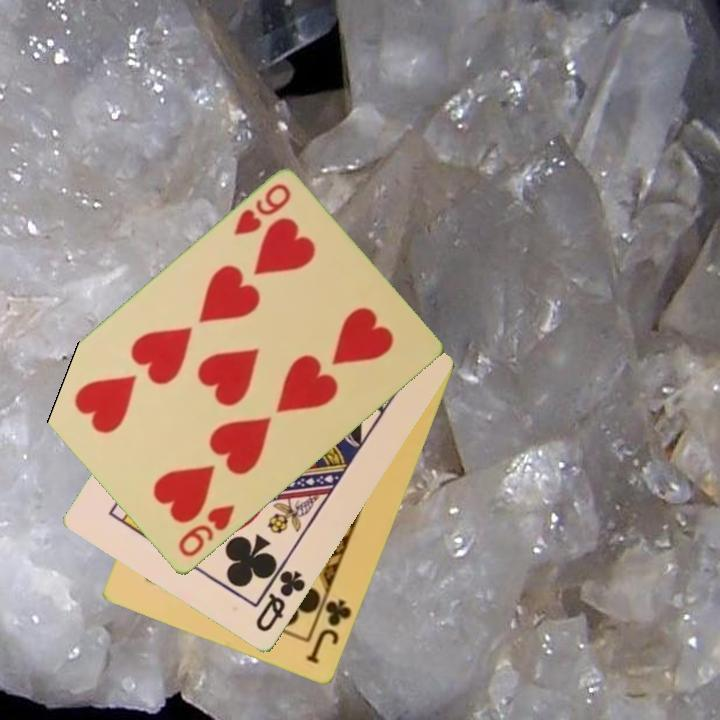9h: (174, 501, 238, 561), (230, 180, 294, 240)
Jc: (303, 596, 355, 668)
Qc: (252, 558, 309, 636)
